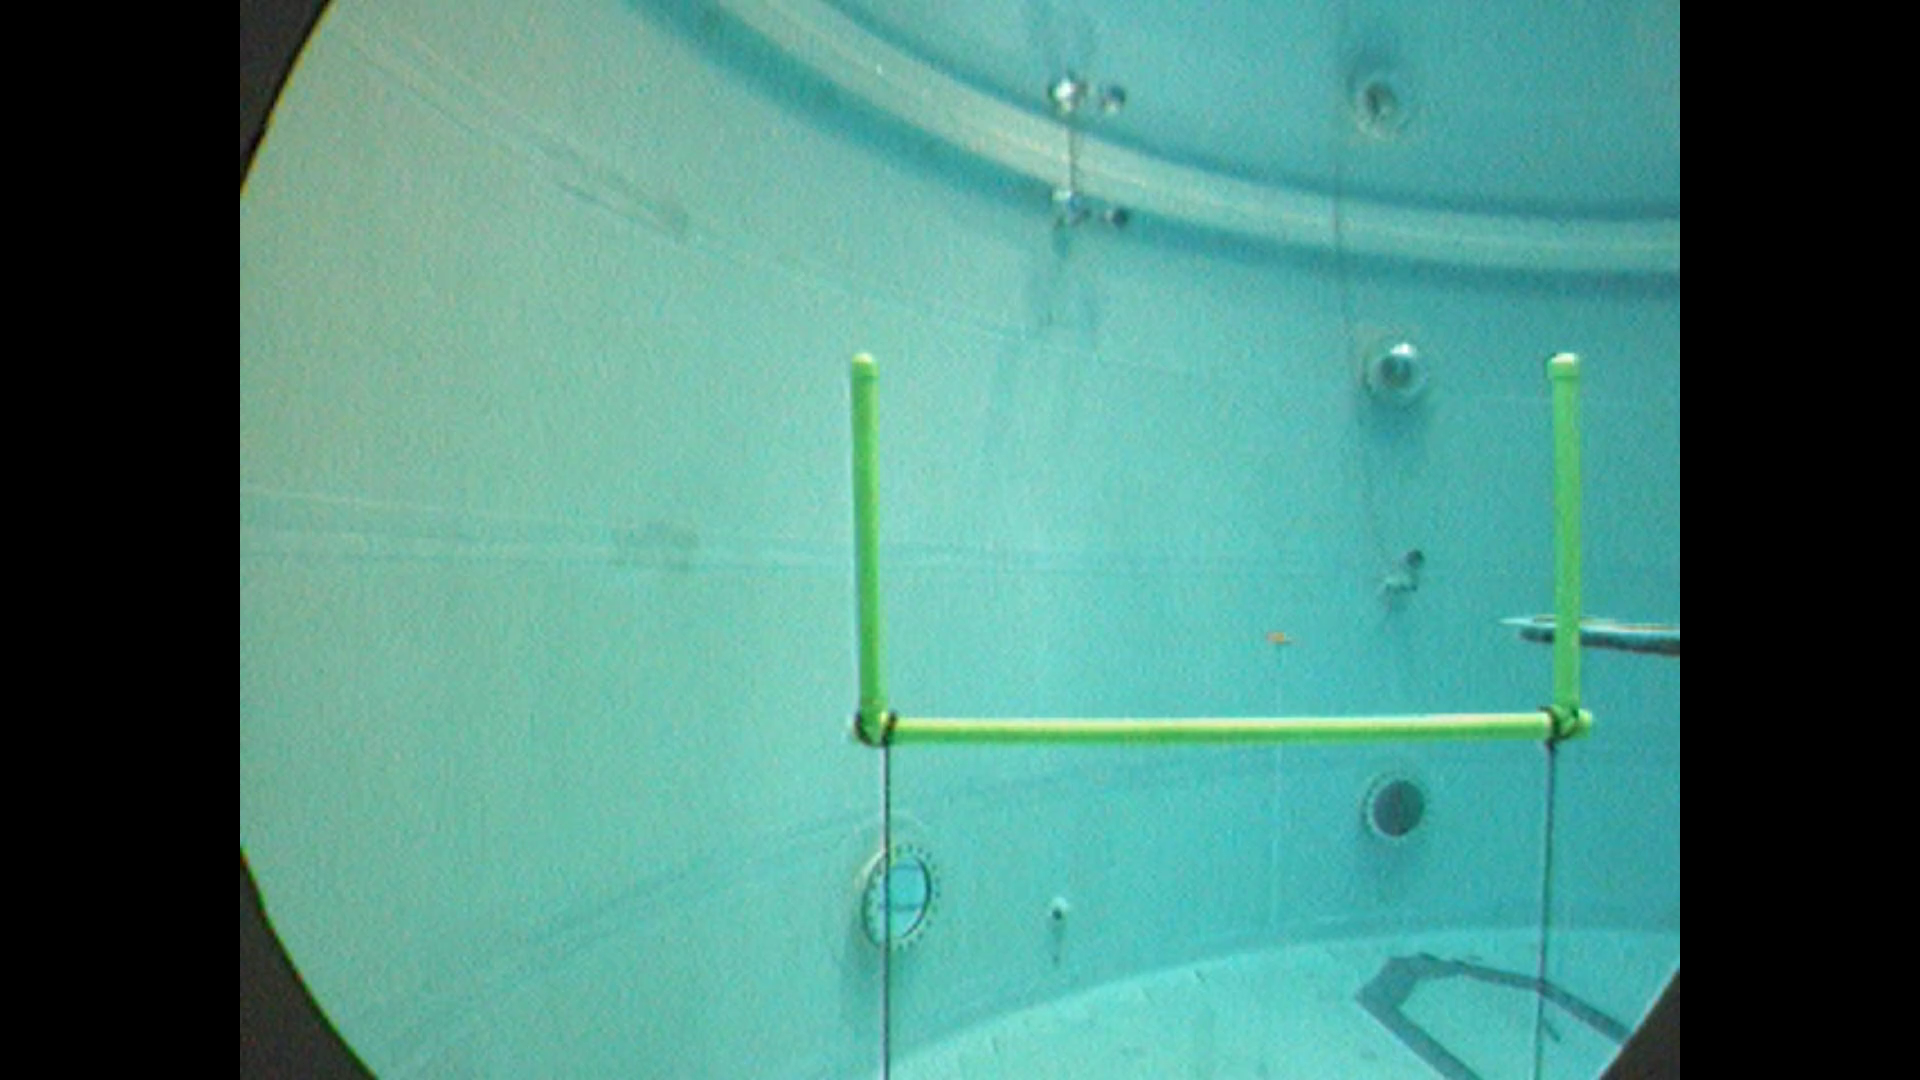gate: (847, 345, 1592, 754)
